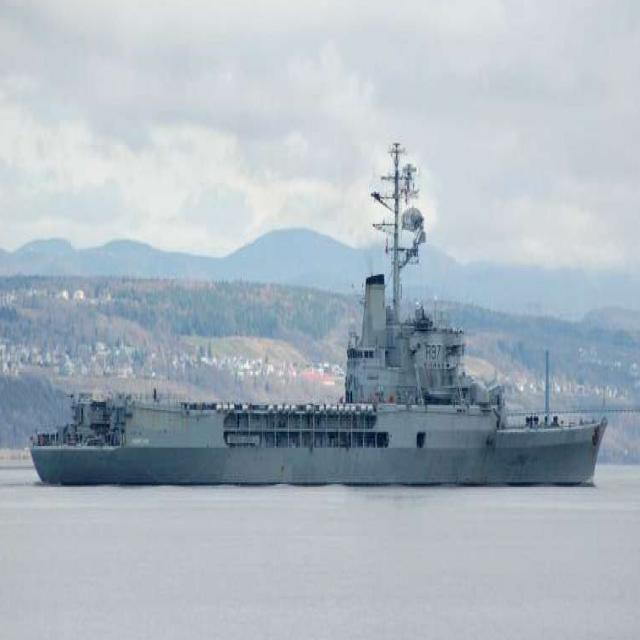Portanaves: (25, 122, 609, 490)
